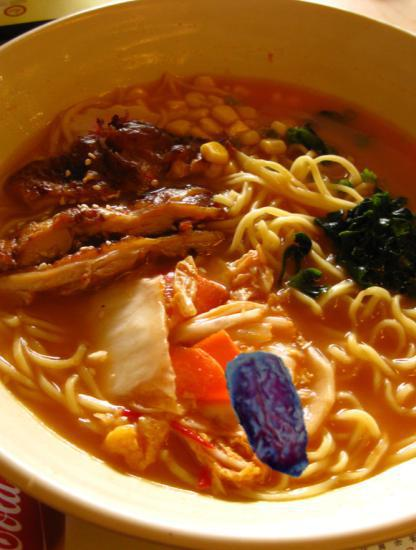Dates: (204, 346, 341, 483)
